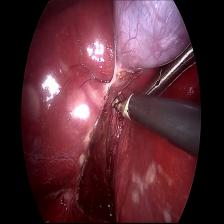Grasper: (137, 37, 199, 98)
Hook: (112, 94, 135, 124)
